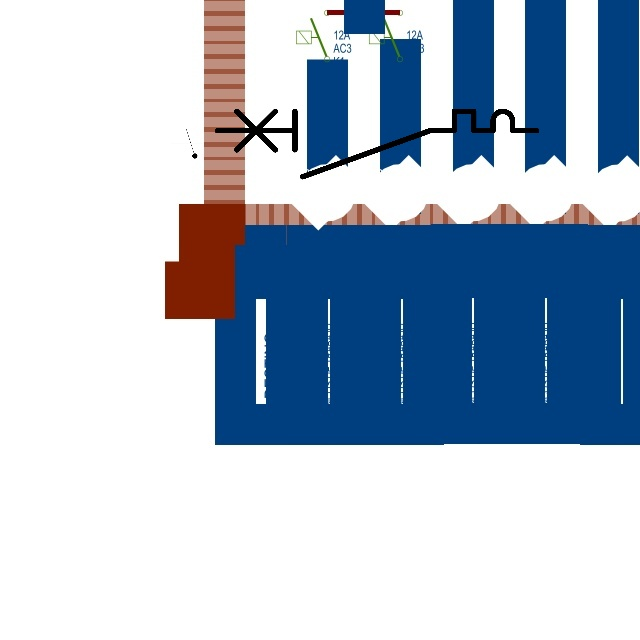interruptor_termomagnetico: (209, 103, 545, 185)
